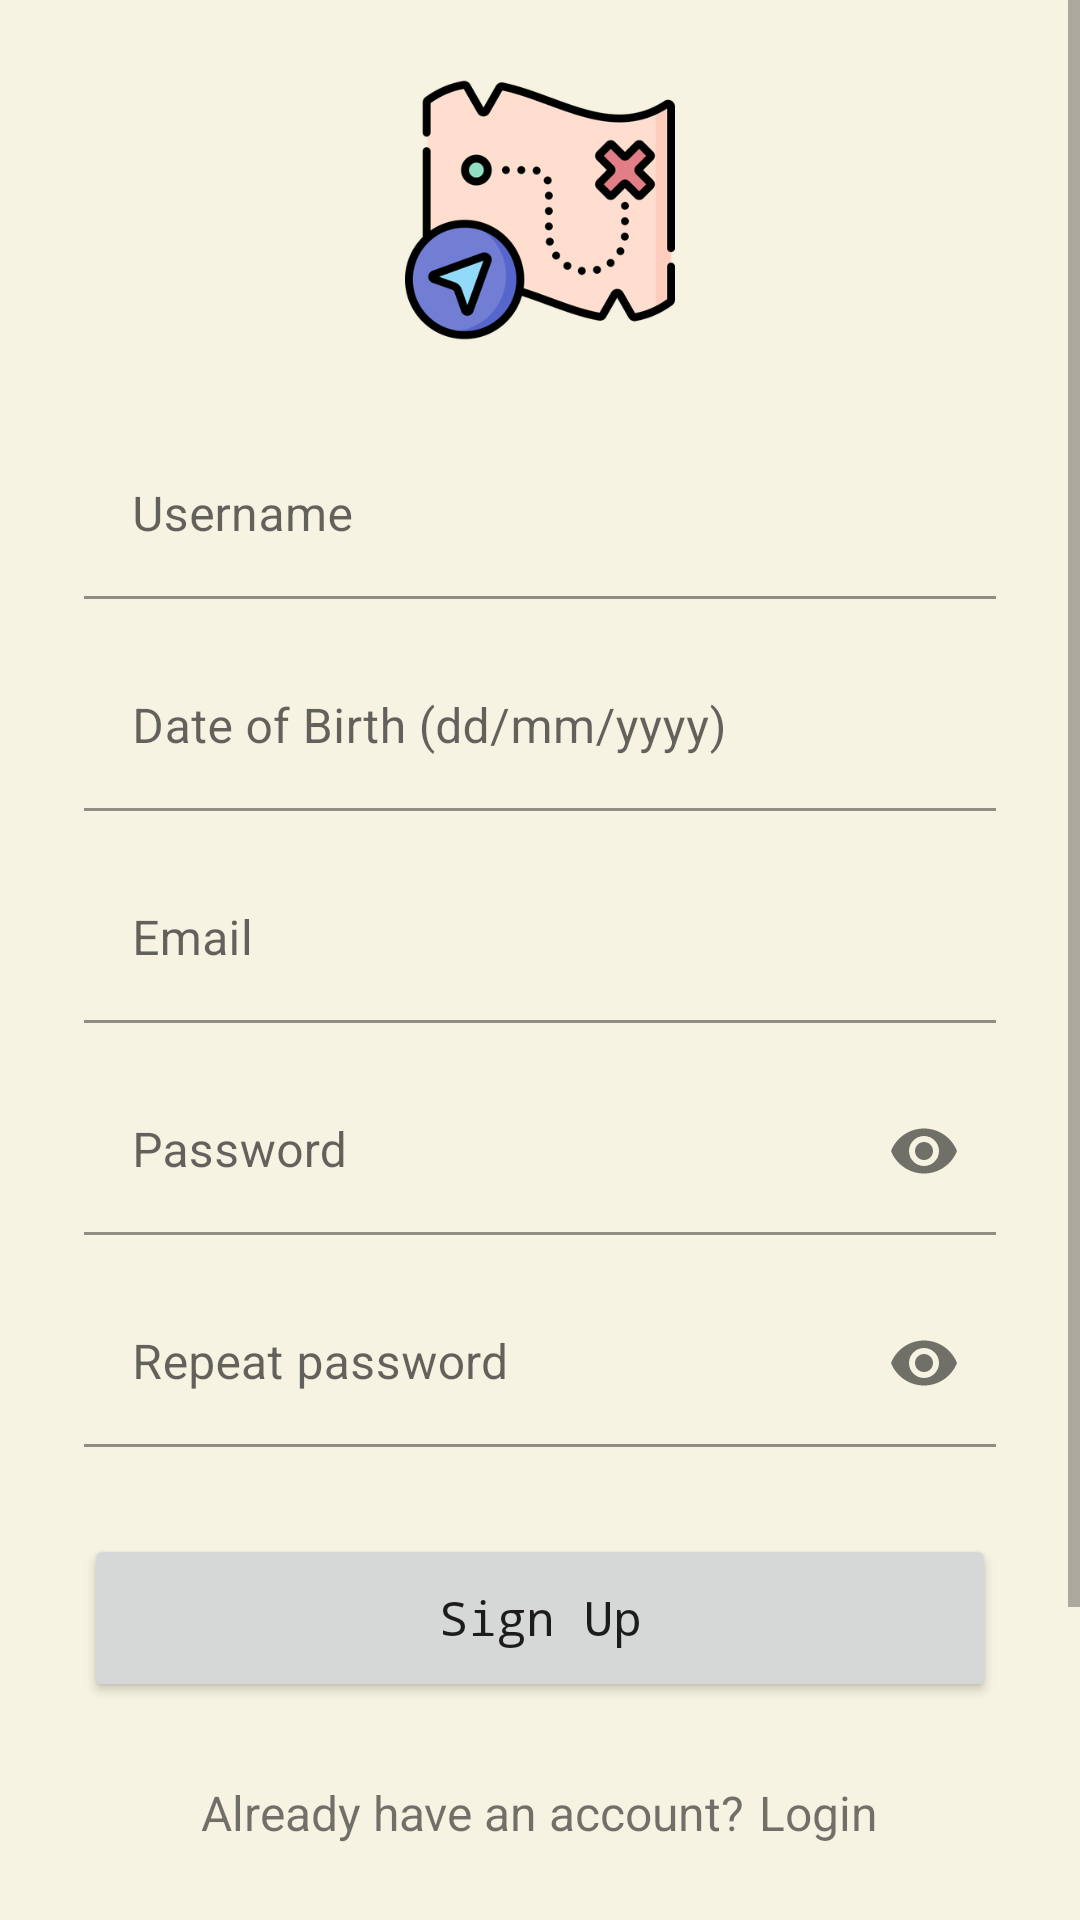

Icons on this 1080x1920 Android screen, each with its box as [x1=x1, y1=y1, x2=x2, y2=y2]:
treasure map: [x1=405, y1=80, x2=675, y2=340]
